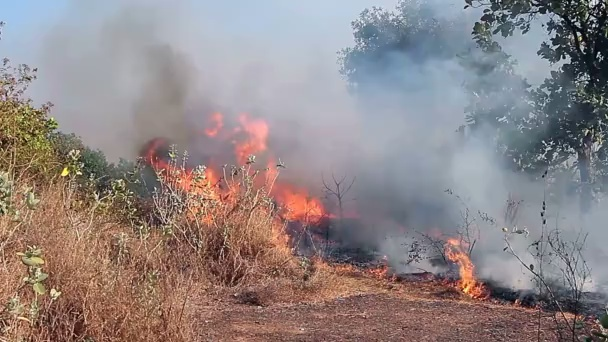fire: (458, 279, 481, 298), (61, 164, 69, 177)
